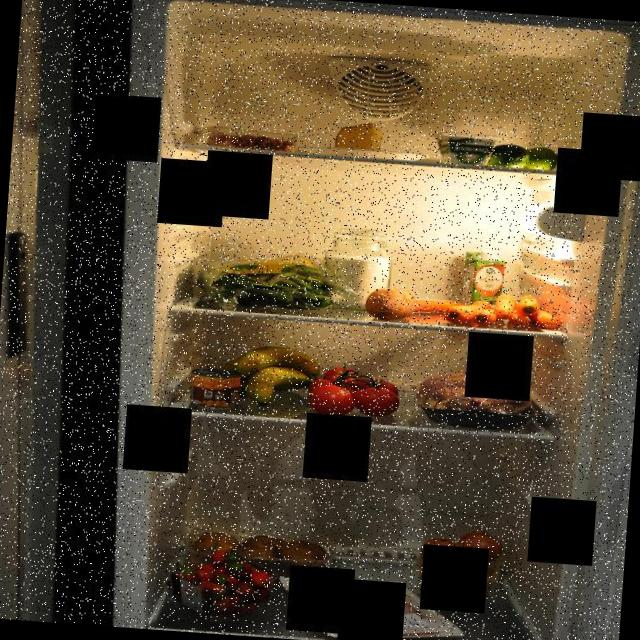Carne cerdo: (284, 576, 463, 640)
Carne pollo: (404, 363, 544, 432)
Cebolla: (420, 526, 518, 598)
Gambas/Langostinos: (215, 132, 302, 154)
Patata: (190, 526, 336, 576)
Plátano: (227, 345, 321, 407)
Queso: (428, 128, 504, 172), (331, 121, 388, 155)
Tomate: (307, 359, 407, 422)
Zanahoria: (413, 286, 568, 334)
corn: (188, 365, 245, 413)
green_beans: (188, 244, 362, 320)
heavy_cream: (458, 248, 510, 304)
strawberries: (164, 546, 280, 624)
sugar: (323, 224, 393, 308)
sweet_potato: (354, 281, 426, 324)
